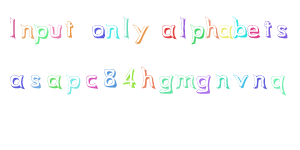4: (118, 65, 138, 92)
8: (100, 66, 118, 91)
I: (2, 11, 25, 43)
a: (6, 68, 27, 92), (45, 68, 64, 93), (159, 20, 179, 43), (217, 22, 234, 43)
b: (232, 14, 248, 45)
c: (83, 68, 102, 93)
e: (245, 18, 261, 44)
g: (195, 71, 213, 98), (157, 71, 174, 97)
h: (139, 62, 157, 94), (204, 15, 219, 42)
l: (177, 13, 189, 43), (121, 15, 131, 41)
m: (173, 68, 197, 93)
n: (249, 66, 269, 93), (213, 67, 232, 93), (18, 20, 36, 42), (104, 20, 121, 43)
o: (87, 21, 106, 42)
p: (63, 68, 83, 97), (33, 22, 49, 48), (188, 23, 205, 45)
q: (269, 70, 290, 99)
s: (274, 18, 292, 43), (28, 72, 45, 93)
t: (261, 16, 274, 44), (63, 17, 77, 39)
u: (47, 21, 63, 43)
v: (230, 65, 251, 91)
y: (132, 23, 154, 48)
